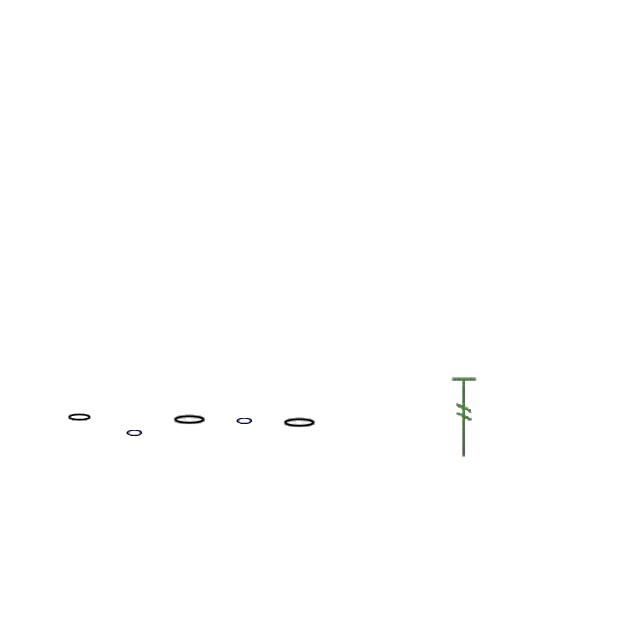half_double: (450, 375, 480, 459)
treble: (172, 413, 208, 427), (282, 416, 318, 430), (66, 412, 94, 424), (126, 426, 144, 440), (236, 414, 254, 428)
